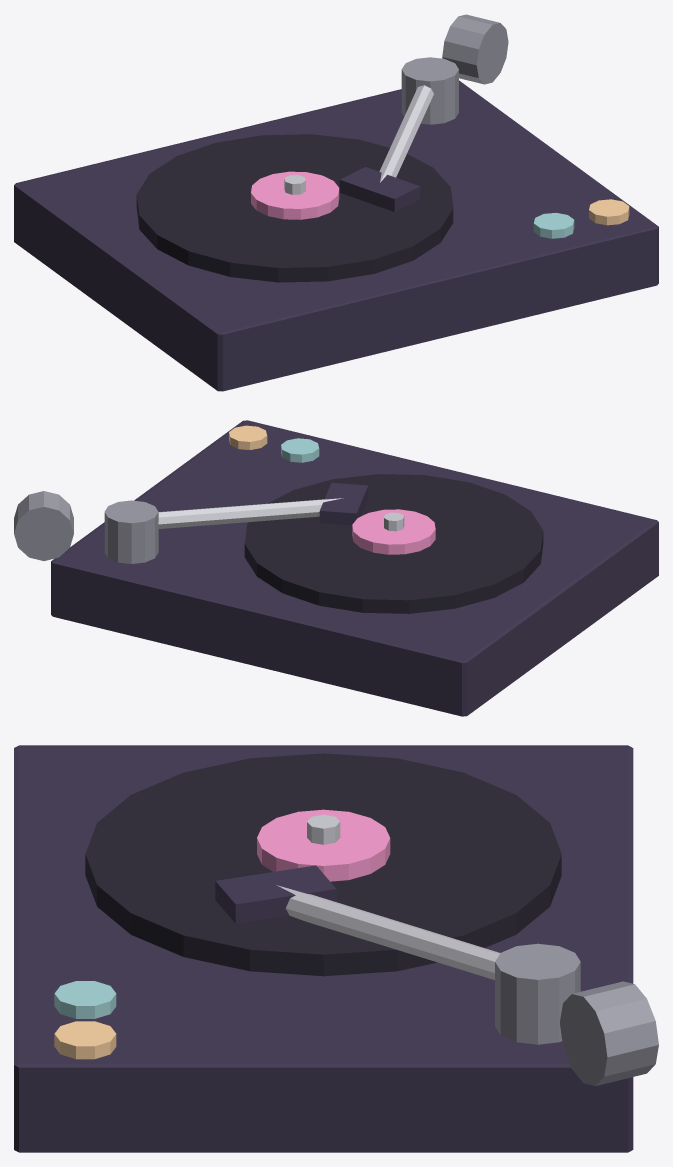
The model's file is deco_giradischi_01.glb.
The picture shows the model from 3 angles, top to bottom: view 1: azimuth 30°, elevation 25°; view 2: azimuth 150°, elevation 25°; view 3: azimuth 270°, elevation 25°; orthographic projection. The views are drawn at different scales.
Parts seen in each view (by area): view 1: deco_giradischi_01; view 2: deco_giradischi_01; view 3: deco_giradischi_01.
Part boxes in pixels (x1,y1,x2,y2): deco_giradischi_01: [14, 14, 658, 391]; deco_giradischi_01: [14, 420, 658, 716]; deco_giradischi_01: [14, 745, 658, 1152].
Bounding box in the file's own units: 0.3536 × 0.08 × 0.2708.
